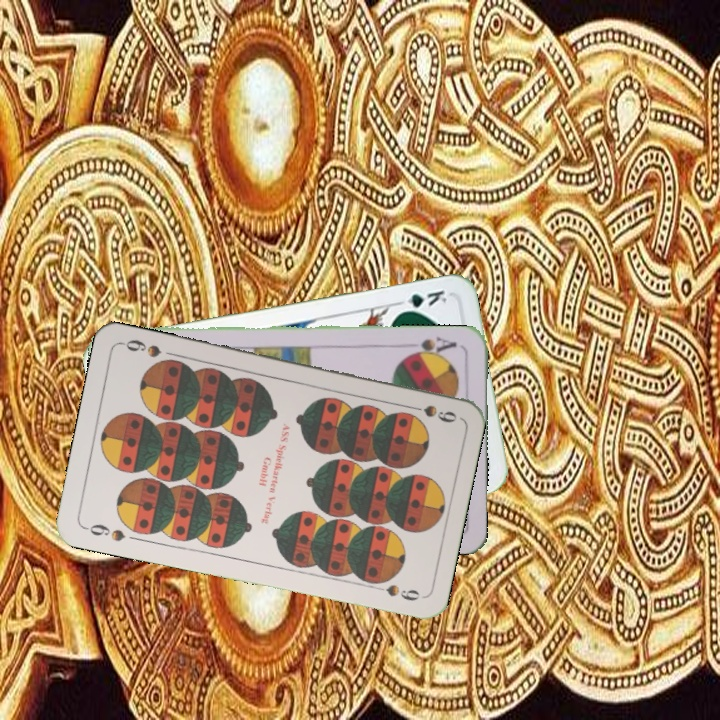GK: (392, 286, 450, 316)
S9: (401, 400, 459, 426), (80, 520, 128, 544)
SA: (403, 332, 459, 359)
